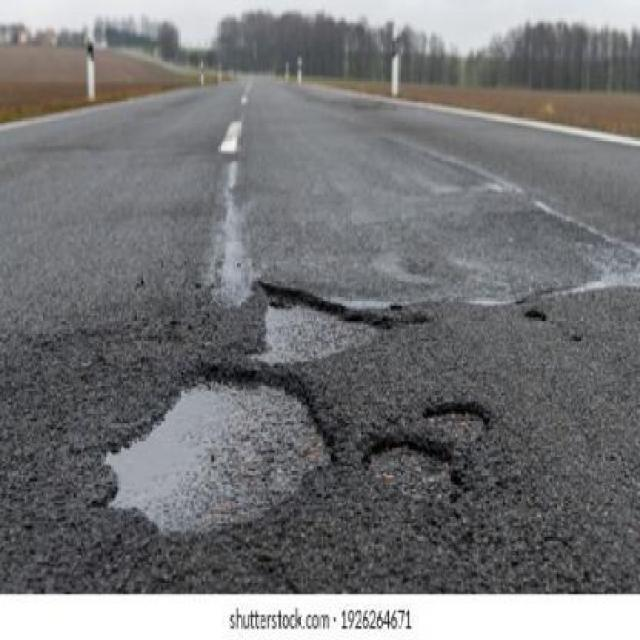Pothole: (98, 363, 334, 532), (252, 275, 383, 371), (362, 435, 456, 511), (423, 399, 492, 446)
